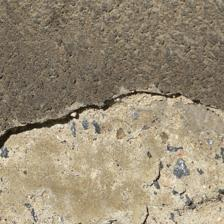Crack: (1, 44, 220, 105)
